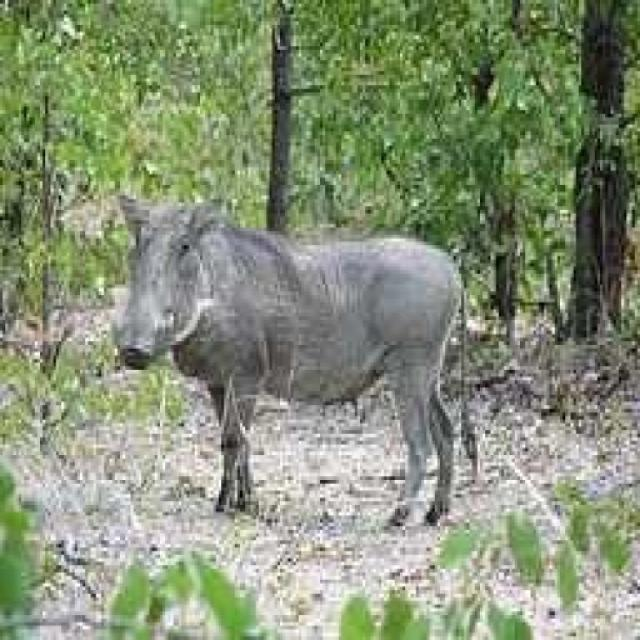pig: (95, 125, 470, 529)
